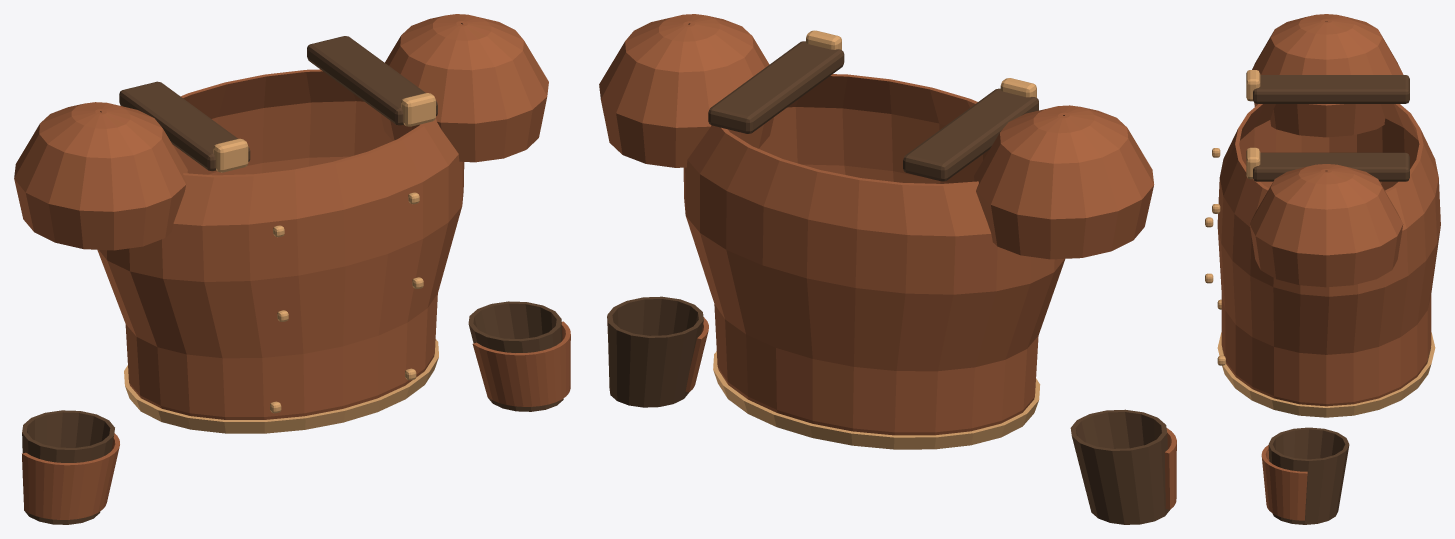
File: ChestItem.fbx
The picture shows the model from 3 angles, left to right: view 1: azimuth 30°, elevation 25°; view 2: azimuth 150°, elevation 25°; view 3: azimuth 270°, elevation 25°; orthographic projection. The views are drawn at different scales.
Visible parts, largest first — view 1: ChestItem; view 2: ChestItem; view 3: ChestItem.
Boxes of the visible parts, bbox=[...] form: ChestItem: bbox=[14, 14, 570, 524]; ChestItem: bbox=[599, 14, 1176, 524]; ChestItem: bbox=[1205, 14, 1440, 524].
Size of the model in its own units: 95 by 62.83 by 42.14.
1 material, 1 textured.
